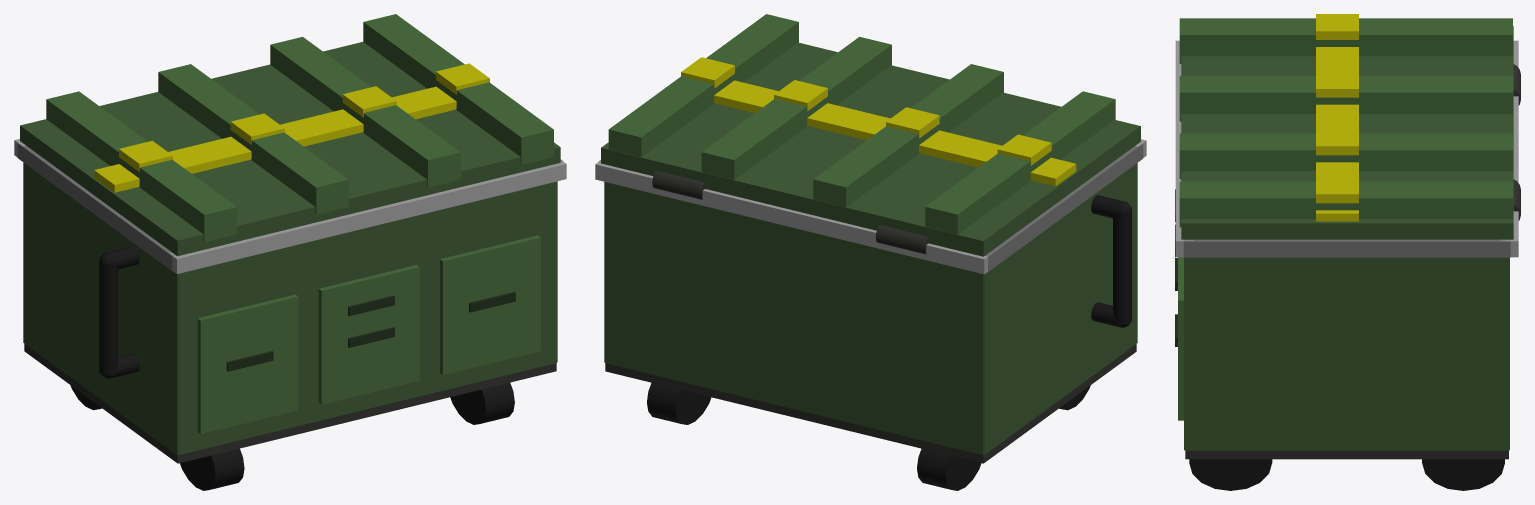
Rendered from CMU3DUtilityCrateTrashCartFilledCloud.glb.
The picture shows the model from 3 angles, left to right: view 1: azimuth 30°, elevation 25°; view 2: azimuth 150°, elevation 25°; view 3: azimuth 270°, elevation 25°; orthographic projection. The views are drawn at different scales.
Visible parts, largest first — view 1: structural end wall -1, closed solid green lid, structural side wall -1, front molded raised panel -0.26, front molded raised panel 0.26, front molded raised panel 0, raised molded lid rib 0.36, raised molded lid rib -0.08, raised molded lid rib 0.16, raised molded lid rib -0.32, metal rim lip -0.286, yellow safety stripe across lid (+9 smaller); view 2: structural end wall 1, closed solid green lid, structural side wall -1, raised molded lid rib -0.32, raised molded lid rib -0.08, raised molded lid rib 0.16, raised molded lid rib 0.36, metal rim lip 0.286, yellow safety stripe across lid, structural bottom pan, metal rim side -0.401, side push handle section 2 (+8 smaller); view 3: structural side wall 1, closed solid green lid, raised molded lid rib 0.16, raised molded lid rib 0.36, raised molded lid rib -0.32, raised molded lid rib -0.08, metal rim side 0.401, yellow safety stripe across lid, structural bottom pan, caster wheel 0.29 -0.205, caster wheel 0.29 0.205, metal rim lip -0.286 (+7 smaller).
Part boxes in pixels (x1,y1,x2,y2): structural end wall -1: (177,181,556,455); closed solid green lid: (20,42,560,256); structural side wall -1: (23,162,177,454); front molded raised panel -0.26: (197,294,298,434); front molded raised panel 0.26: (440,235,540,374); front molded raised panel 0: (318,265,419,404); raised molded lid rib 0.36: (363,14,553,164); raised molded lid rib -0.08: (158,64,348,214); raised molded lid rib 0.16: (270,36,460,187); raised molded lid rib -0.32: (46,91,236,241); metal rim lip -0.286: (169,161,566,273); yellow safety stripe across lid: (94,86,456,192); structural end wall 1: (604,182,983,455); closed solid green lid: (601,42,1140,256); structural side wall -1: (983,163,1137,454); raised molded lid rib -0.32: (925,91,1115,234); raised molded lid rib -0.08: (813,64,1003,207); raised molded lid rib 0.16: (701,36,891,179); raised molded lid rib 0.36: (608,14,798,157); metal rim lip 0.286: (595,160,989,274); yellow safety stripe across lid: (714,80,1076,186); structural bottom pan: (605,344,1136,463); metal rim side -0.401: (985,143,1143,271); side push handle section 2: (1113,207,1131,324); structural side wall 1: (1185,257,1508,450); closed solid green lid: (1181,26,1513,239); raised molded lid rib 0.16: (1179,133,1512,179); raised molded lid rib 0.36: (1179,181,1512,227); raised molded lid rib -0.32: (1179,18,1512,63); raised molded lid rib -0.08: (1179,76,1512,121); metal rim side 0.401: (1183,239,1510,257); yellow safety stripe across lid: (1316,47,1358,221); structural bottom pan: (1185,450,1508,459); caster wheel 0.29 -0.205: (1189,459,1272,490); caster wheel 0.29 0.205: (1422,459,1504,490); metal rim lip -0.286: (1175,40,1193,257).
Size of the model in its own units: 0.902 by 0.611 by 0.609.
